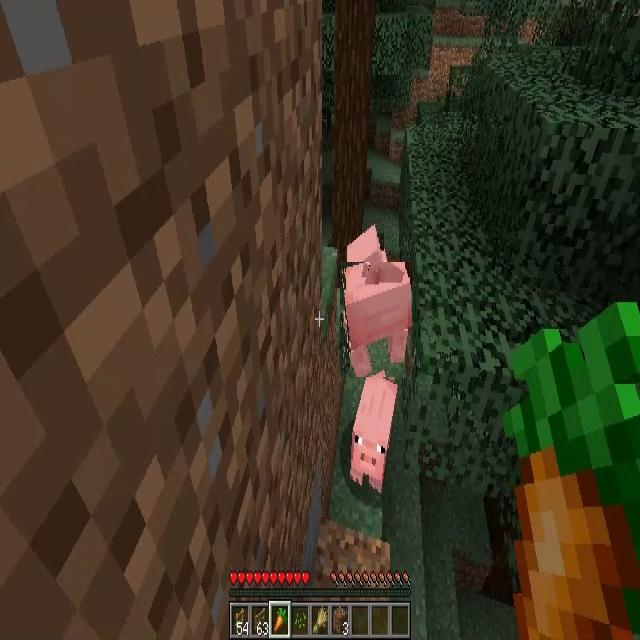pig: (340, 262, 412, 377), (353, 372, 396, 494)
